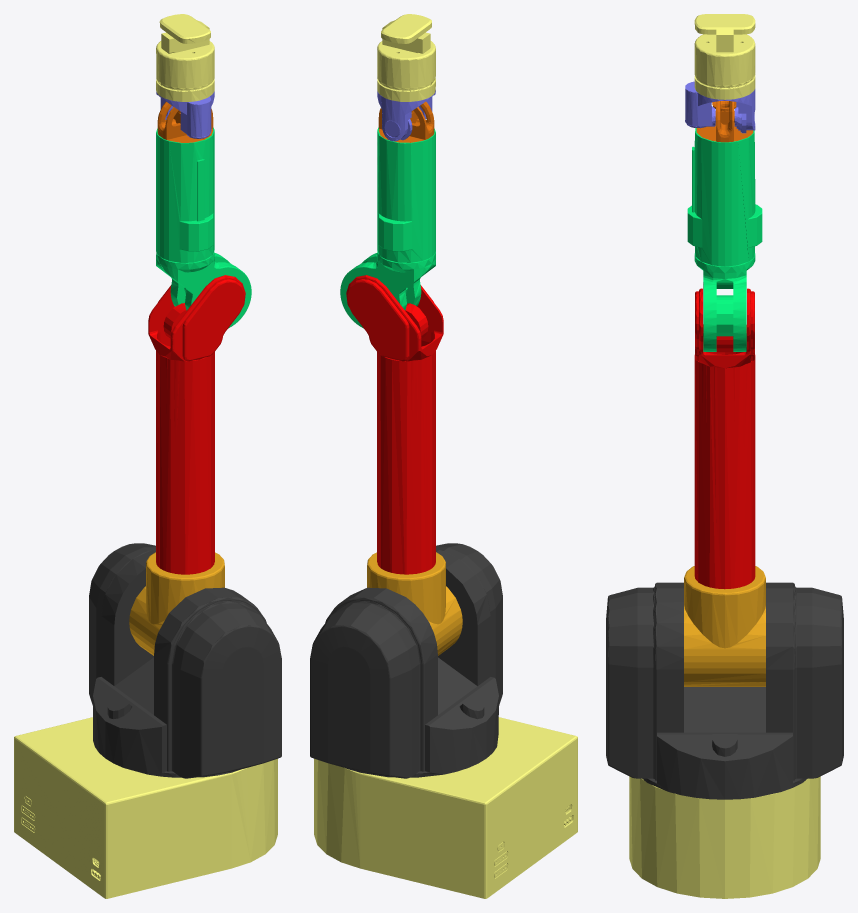
Rendered from barrett-wam.dae.
3 renders of one model, left to right at view 1: azimuth 30°, elevation 25°; view 2: azimuth 150°, elevation 25°; view 3: azimuth 270°, elevation 25°, orthographic. The views are drawn at different scales.
Visible parts, largest first — view 1: wam1, wam0, wam3, wam4, wam7, wam2, wam6, wam5; view 2: wam1, wam0, wam3, wam4, wam7, wam2, wam6, wam5; view 3: wam1, wam0, wam3, wam4, wam2, wam7, wam6, wam5.
Part boxes in pixels (bbox=[...]): wam1: bbox=[89, 543, 281, 778]; wam0: bbox=[14, 717, 277, 898]; wam3: bbox=[148, 275, 245, 574]; wam4: bbox=[156, 127, 251, 328]; wam7: bbox=[156, 14, 214, 101]; wam2: bbox=[129, 552, 224, 655]; wam6: bbox=[156, 91, 214, 138]; wam5: bbox=[157, 101, 213, 142]; wam1: bbox=[310, 543, 502, 778]; wam0: bbox=[314, 717, 577, 898]; wam3: bbox=[346, 275, 443, 574]; wam4: bbox=[340, 127, 435, 328]; wam7: bbox=[377, 14, 435, 101]; wam2: bbox=[367, 552, 462, 655]; wam6: bbox=[377, 90, 435, 141]; wam5: bbox=[378, 101, 434, 142]; wam1: bbox=[606, 582, 843, 799]; wam0: bbox=[629, 776, 820, 898]; wam3: bbox=[694, 288, 755, 589]; wam4: bbox=[687, 128, 762, 351]; wam2: bbox=[684, 566, 765, 686]; wam7: bbox=[694, 14, 755, 99]; wam6: bbox=[685, 81, 755, 133]; wam5: bbox=[696, 101, 753, 142].
Size of the model in its own units: 0.36 by 0.3476 by 1.35.
